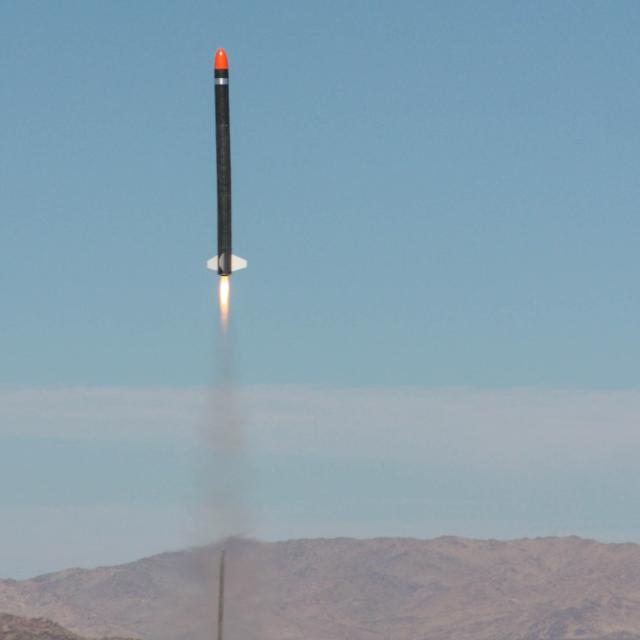Rocket: (206, 46, 248, 277)
